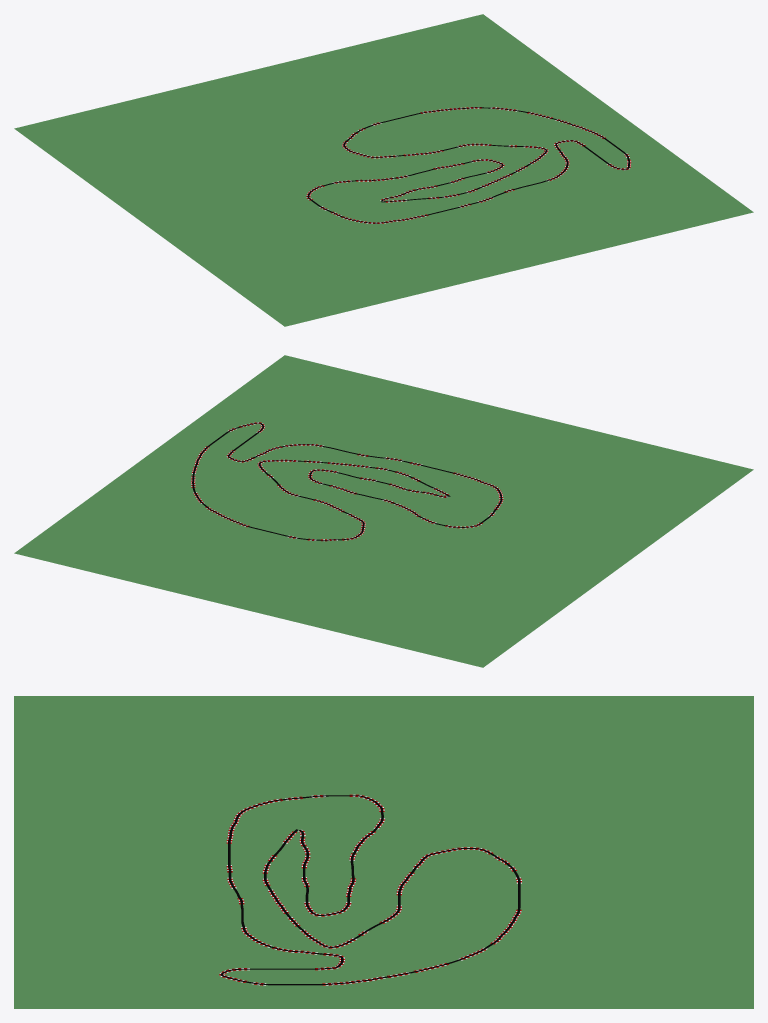
The model's file is generated_track.obj.
3 views of the same model, one above another, from view 1: azimuth 30°, elevation 25°; view 2: azimuth 150°, elevation 25°; view 3: azimuth 270°, elevation 25° (orthographic). The views are drawn at different scales.
Size of the model in its own units: 500 by 0.135 by 500.
